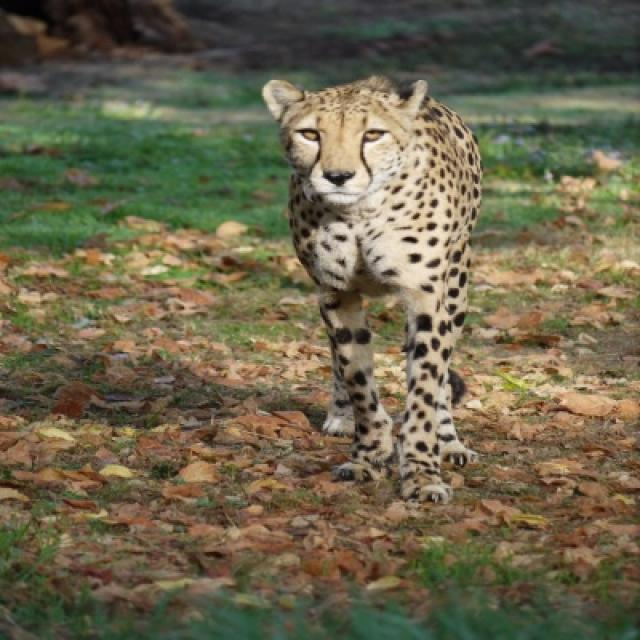Cheetah: (261, 77, 483, 506)
